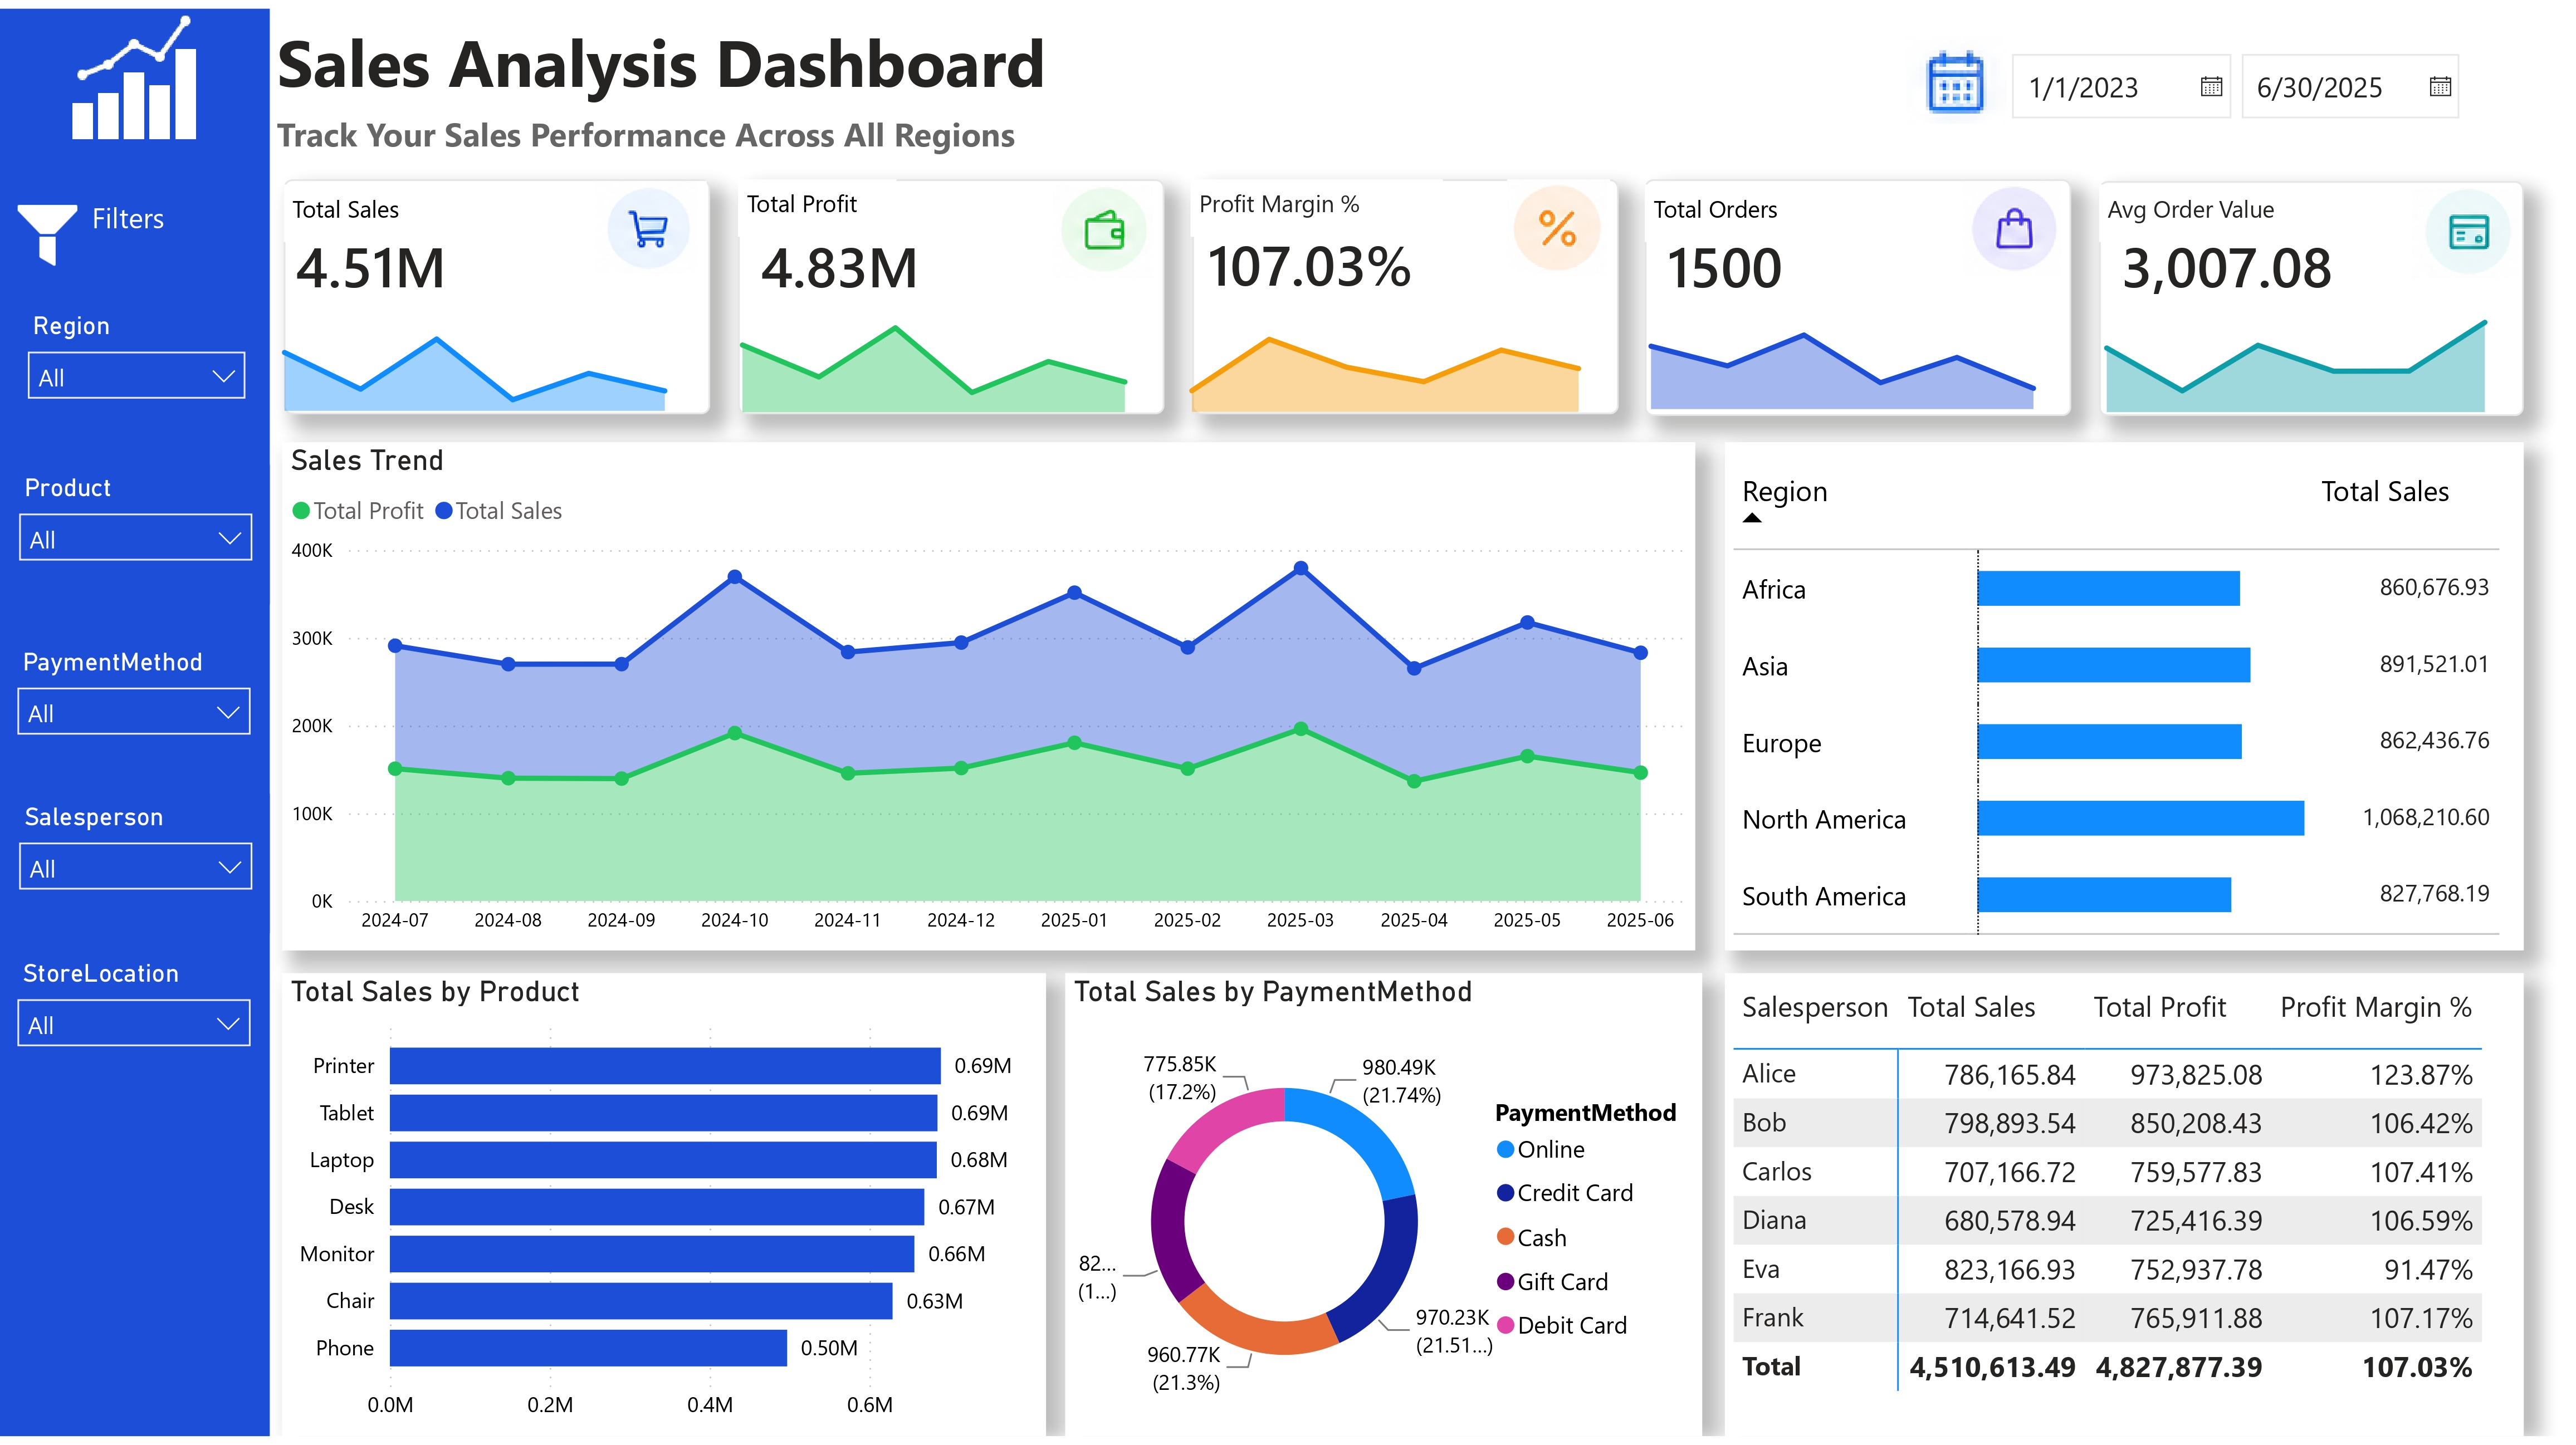

What the dashboard file says about the page in this screenshot:
{"tool":"powerbi","page":{"name":"Page 1","canvas":[1480,820],"ordinal":0},"visuals":[{"type":"textbox","box":[154.5,0,627.6,63.7],"z":0},{"type":"textbox","box":[154.5,53.9,484.2,44.1],"z":1000},{"type":"shape","box":[0,0,155,820.1],"z":2000},{"type":"shape","box":[163,98.1,245,135],"z":3000},{"type":"shape","box":[423.7,98.2,245.2,134.8],"z":4000},{"type":"shape","box":[684.6,98.1,245.2,134.8],"z":5000},{"type":"shape","box":[945.4,98.1,245.2,136.1],"z":6000},{"type":"shape","box":[1206.2,99.3,243.9,134.8],"z":7000},{"type":"textbox","box":[684,98.1,144.6,33.1],"z":8000},{"type":"textbox","box":[163,100.5,90.7,33.1],"z":9000},{"type":"textbox","box":[424.1,98.1,90.7,33.1],"z":10000},{"type":"textbox","box":[1206.2,100.5,171.6,33.1],"z":11000},{"type":"textbox","box":[945.1,100.5,90.7,33.1],"z":12000},{"type":"cardVisual","fields":{"Data":["measure.Total Sales"]},"box":[141,106.6,153.2,76],"z":13000},{"type":"cardVisual","fields":{"Data":["measure.Total Orders"]},"box":[929.2,106.6,153.2,76],"z":14000},{"type":"cardVisual","fields":{"Data":["measure.Profit Margin %"]},"box":[665,106.8,182.3,75.5],"z":15000},{"type":"cardVisual","fields":{"Data":["measure.Profit"]},"box":[408.2,106.6,153.2,76],"z":16000},{"type":"cardVisual","fields":{"Data":["measure.Average Order Value"]},"box":[1190.3,106.6,214.5,76],"z":17000},{"type":"image","box":[339.6,99.3,68.6,55.2],"z":18000},{"type":"image","box":[1381.5,100.5,68.6,55.2],"z":19000},{"type":"image","box":[1121.7,99.3,68.6,55.2],"z":20000},{"type":"image","box":[860.5,98.1,68.6,55.2],"z":21000},{"type":"image","box":[600.7,100.5,68.6,55.2],"z":22000},{"type":"areaChart","fields":{"Category":["Calendar.Year Month"],"Y":["measure.Total Sales"]},"box":[141,165.2,263.4,71.2],"z":23000},{"type":"areaChart","fields":{"Category":["Calendar.Year Month"],"Y":["measure.Average Order Value"]},"box":[1187.6,156.6,262,79.7],"z":24000},{"type":"areaChart","fields":{"Category":["Calendar.Year Month"],"Y":["measure.Total Orders"]},"box":[925.6,166.6,264.9,68.4],"z":25000},{"type":"areaChart","fields":{"Category":["Calendar.Year Month"],"Y":["measure.Profit Margin %"]},"box":[662.2,153.8,267.7,82.6],"z":26000},{"type":"areaChart","fields":{"Category":["Calendar.Year Month"],"Y":["measure.Total Profit"]},"box":[404.4,166.6,264.9,69.8],"z":27000},{"type":"stackedAreaChart","title":"Sales Trend","fields":{"Category":["Calendar.Year Month"],"Y":["measure.Total Profit","measure.Total Sales"]},"box":[162.3,249.2,811.7,291.9],"z":28000},{"type":"pivotTable","fields":{"Rows":["Sales.Region"],"Values":["measure.Sales Bar","measure.Total Sales"]},"box":[991.1,249.2,458.5,291.9],"z":29000},{"type":"clusteredBarChart","fields":{"Category":["Sales.Product"],"Y":["measure.Total Sales"]},"box":[162.3,553.7,438.6,266.3],"z":30000},{"type":"donutChart","fields":{"Y":["measure.Total Sales"],"Category":["Sales.PaymentMethod"]},"box":[612.3,553.9,366,266.3],"z":31000},{"type":"pivotTable","fields":{"Rows":["Sales.Salesperson"],"Values":["measure.Total Sales","measure.Total Profit","measure.Profit Margin %"]},"box":[991.1,553.9,458.5,266.3],"z":32000},{"type":"slicer","fields":{"Values":["Sales.Region"]},"box":[5.7,169.5,145.2,79.7],"z":33000},{"type":"slicer","fields":{"Values":["Sales.Product"]},"box":[1.4,262,153.8,79.7],"z":34000},{"type":"slicer","fields":{"Values":["Sales.PaymentMethod"]},"box":[0,361.7,153.8,79.7],"z":35000},{"type":"slicer","fields":{"Values":["Sales.Salesperson"]},"box":[1.4,451.4,153.8,79.7],"z":36000},{"type":"slicer","fields":{"Values":["Sales.StoreLocation"]},"box":[0,541.1,153.8,79.7],"z":37000},{"type":"textbox","box":[5.7,104,135.3,45.6],"z":38000},{"type":"image","box":[5.7,111.1,42.7,38.4],"z":39000},{"type":"image","box":[12.8,1.4,128.2,74],"z":39001},{"type":"slicer","fields":{"Values":["Sales.Date"]},"box":[1143.5,15.7,306.2,72.6],"z":39002},{"type":"image","box":[1092.2,15.7,64.1,49.8],"z":39003}]}

Visuals, with their boxes in screenshot pixels (x1, y1, x2, y2), scaled from the page's 1480x820 canvas onto the 2576x1445 screenshot:
textbox: Rect(269, 0, 1361, 112)
textbox: Rect(269, 95, 1112, 173)
shape: Rect(0, 0, 270, 1444)
shape: Rect(283, 173, 710, 411)
shape: Rect(737, 173, 1164, 410)
shape: Rect(1191, 173, 1619, 410)
shape: Rect(1645, 173, 2072, 413)
shape: Rect(2099, 175, 2524, 413)
textbox: Rect(1191, 173, 1442, 231)
textbox: Rect(283, 177, 442, 236)
textbox: Rect(738, 173, 896, 231)
textbox: Rect(2099, 177, 2398, 236)
textbox: Rect(1645, 177, 1803, 236)
cardVisual - measure.Total Sales: Rect(246, 188, 512, 322)
cardVisual - measure.Total Orders: Rect(1617, 188, 1884, 322)
cardVisual - measure.Profit Margin %: Rect(1157, 188, 1475, 321)
cardVisual - measure.Profit: Rect(711, 188, 977, 322)
cardVisual - measure.Average Order Value: Rect(2072, 188, 2445, 322)
image: Rect(591, 175, 711, 272)
image: Rect(2404, 177, 2524, 275)
image: Rect(1952, 175, 2072, 272)
image: Rect(1498, 173, 1617, 270)
image: Rect(1045, 177, 1165, 275)
areaChart - Calendar.Year Month x measure.Total Sales: Rect(246, 291, 704, 417)
areaChart - Calendar.Year Month x measure.Average Order Value: Rect(2067, 276, 2523, 417)
areaChart - Calendar.Year Month x measure.Total Orders: Rect(1611, 293, 2072, 414)
areaChart - Calendar.Year Month x measure.Profit Margin %: Rect(1152, 271, 1619, 417)
areaChart - Calendar.Year Month x measure.Total Profit: Rect(704, 293, 1165, 417)
"Sales Trend" stackedAreaChart: Rect(282, 439, 1695, 953)
pivotTable - Sales.Region x measure.Sales Bar: Rect(1725, 439, 2523, 953)
clusteredBarChart - Sales.Product x measure.Total Sales: Rect(282, 976, 1046, 1444)
donutChart - measure.Total Sales x Sales.PaymentMethod: Rect(1065, 976, 1703, 1444)
pivotTable - Sales.Salesperson x measure.Total Sales: Rect(1725, 976, 2523, 1444)
slicer - Sales.Region: Rect(10, 298, 263, 439)
slicer - Sales.Product: Rect(2, 462, 270, 602)
slicer - Sales.PaymentMethod: Rect(0, 638, 268, 778)
slicer - Sales.Salesperson: Rect(2, 796, 270, 936)
slicer - Sales.StoreLocation: Rect(0, 953, 268, 1094)
textbox: Rect(10, 183, 246, 263)
image: Rect(10, 196, 84, 263)
image: Rect(22, 2, 246, 133)
slicer - Sales.Date: Rect(1990, 28, 2523, 155)
image: Rect(1901, 28, 2012, 115)
